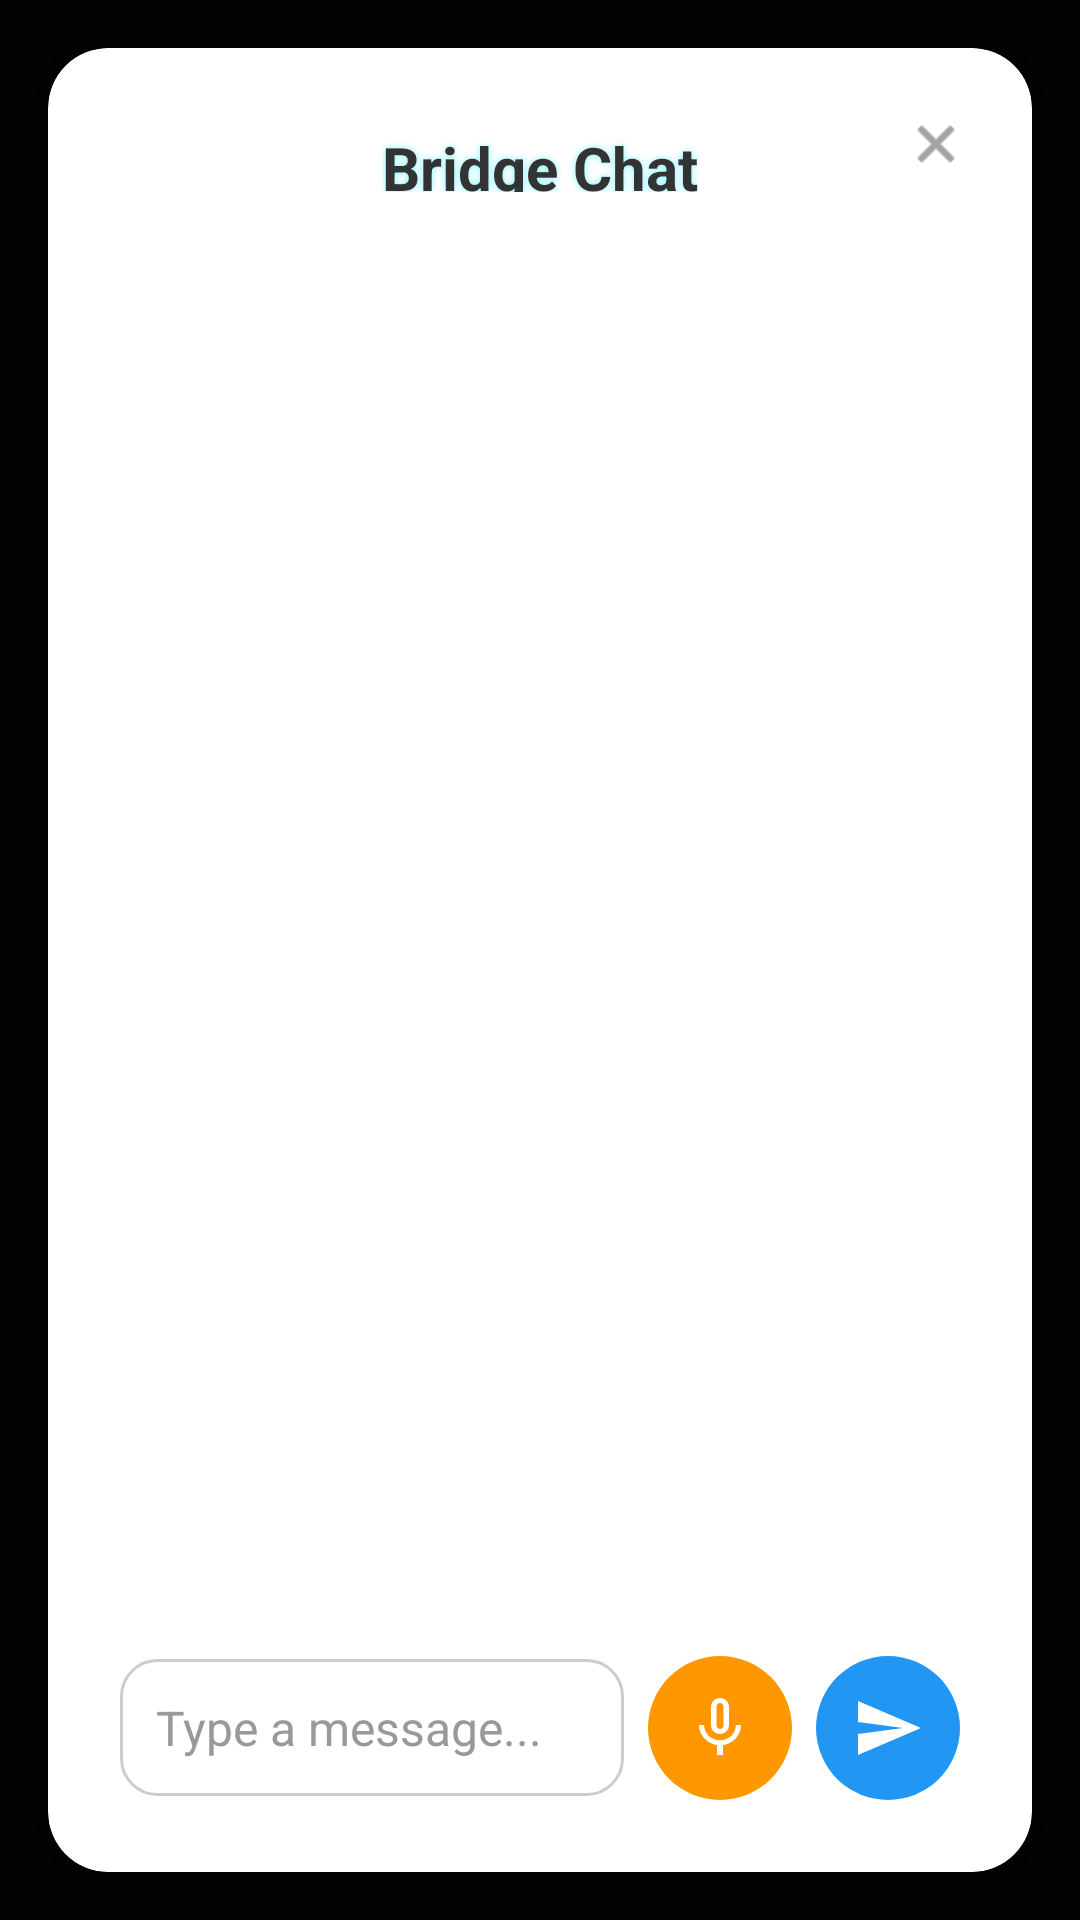

Named icons in this screenshot (1080px×1920px) and their bounding boxes, (x1, y1, x2, y2):
Close: (917, 125, 955, 163)
Send message: (816, 1656, 960, 1800)
Voice input: (648, 1656, 792, 1800)
